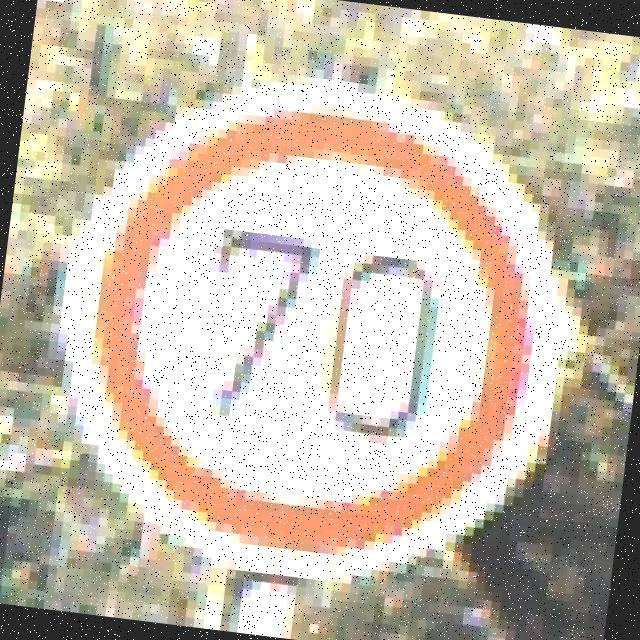Ograniczenie predkosci do 70: (52, 65, 579, 600)
